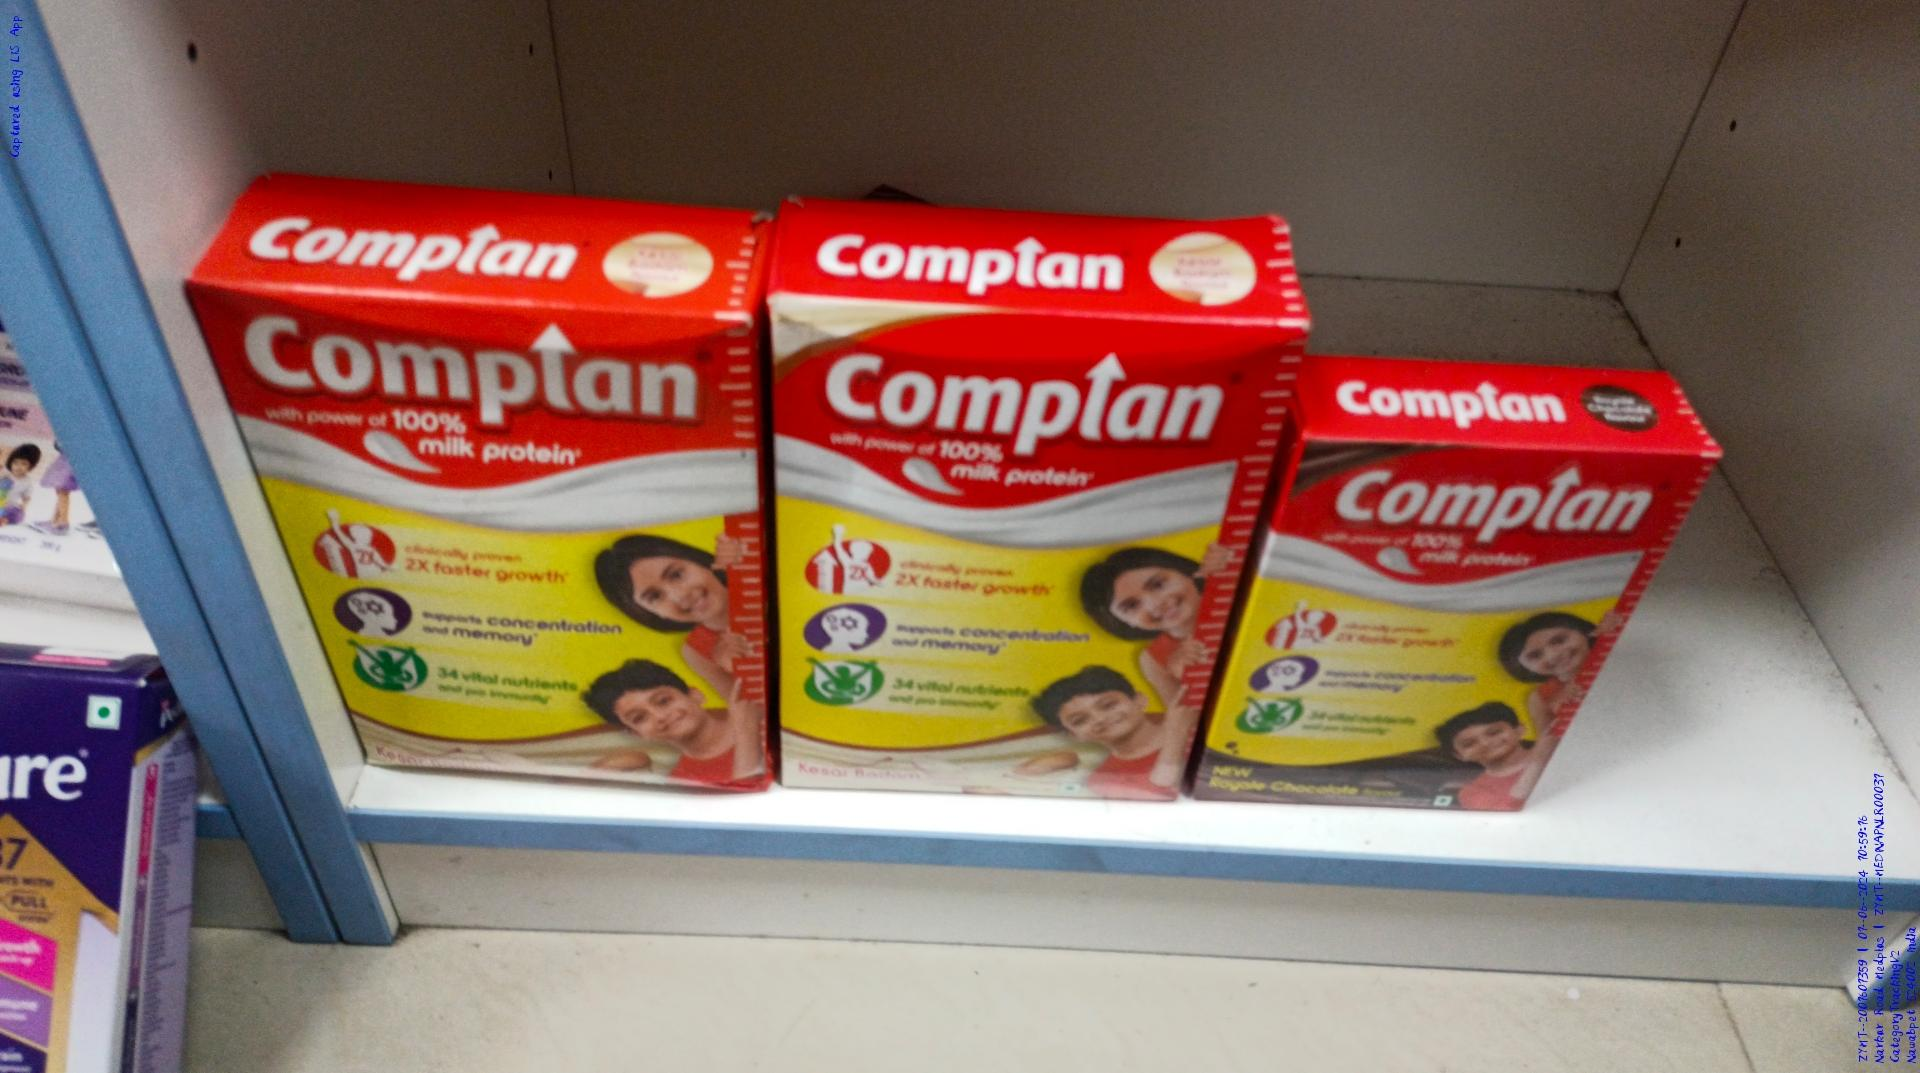COMPLAN_CHOCOLATE_200_GMS_PACK: (1258, 428, 1622, 816)
COMPLAN_KESAR_BADAM_500_GMS_PACK: (237, 287, 756, 788), (775, 308, 1225, 811)
